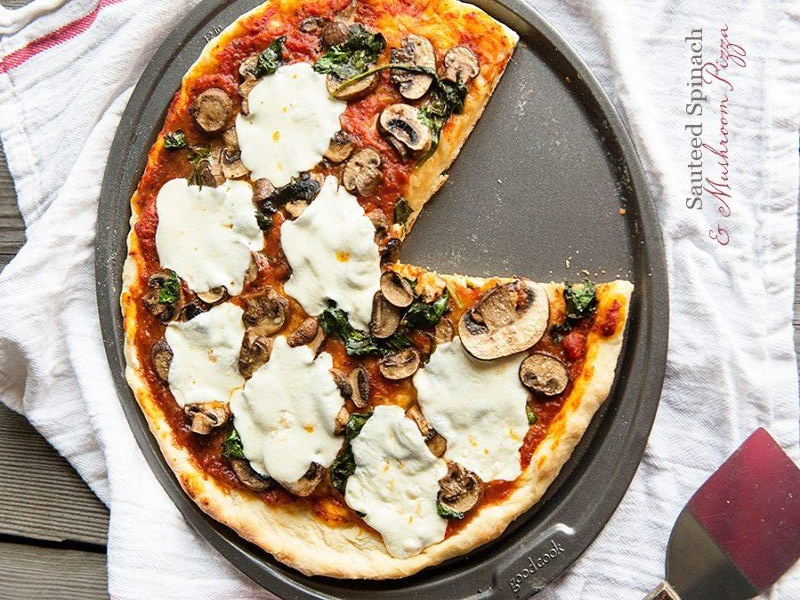champignon: (454, 273, 559, 365), (369, 97, 436, 161), (519, 351, 573, 403)
